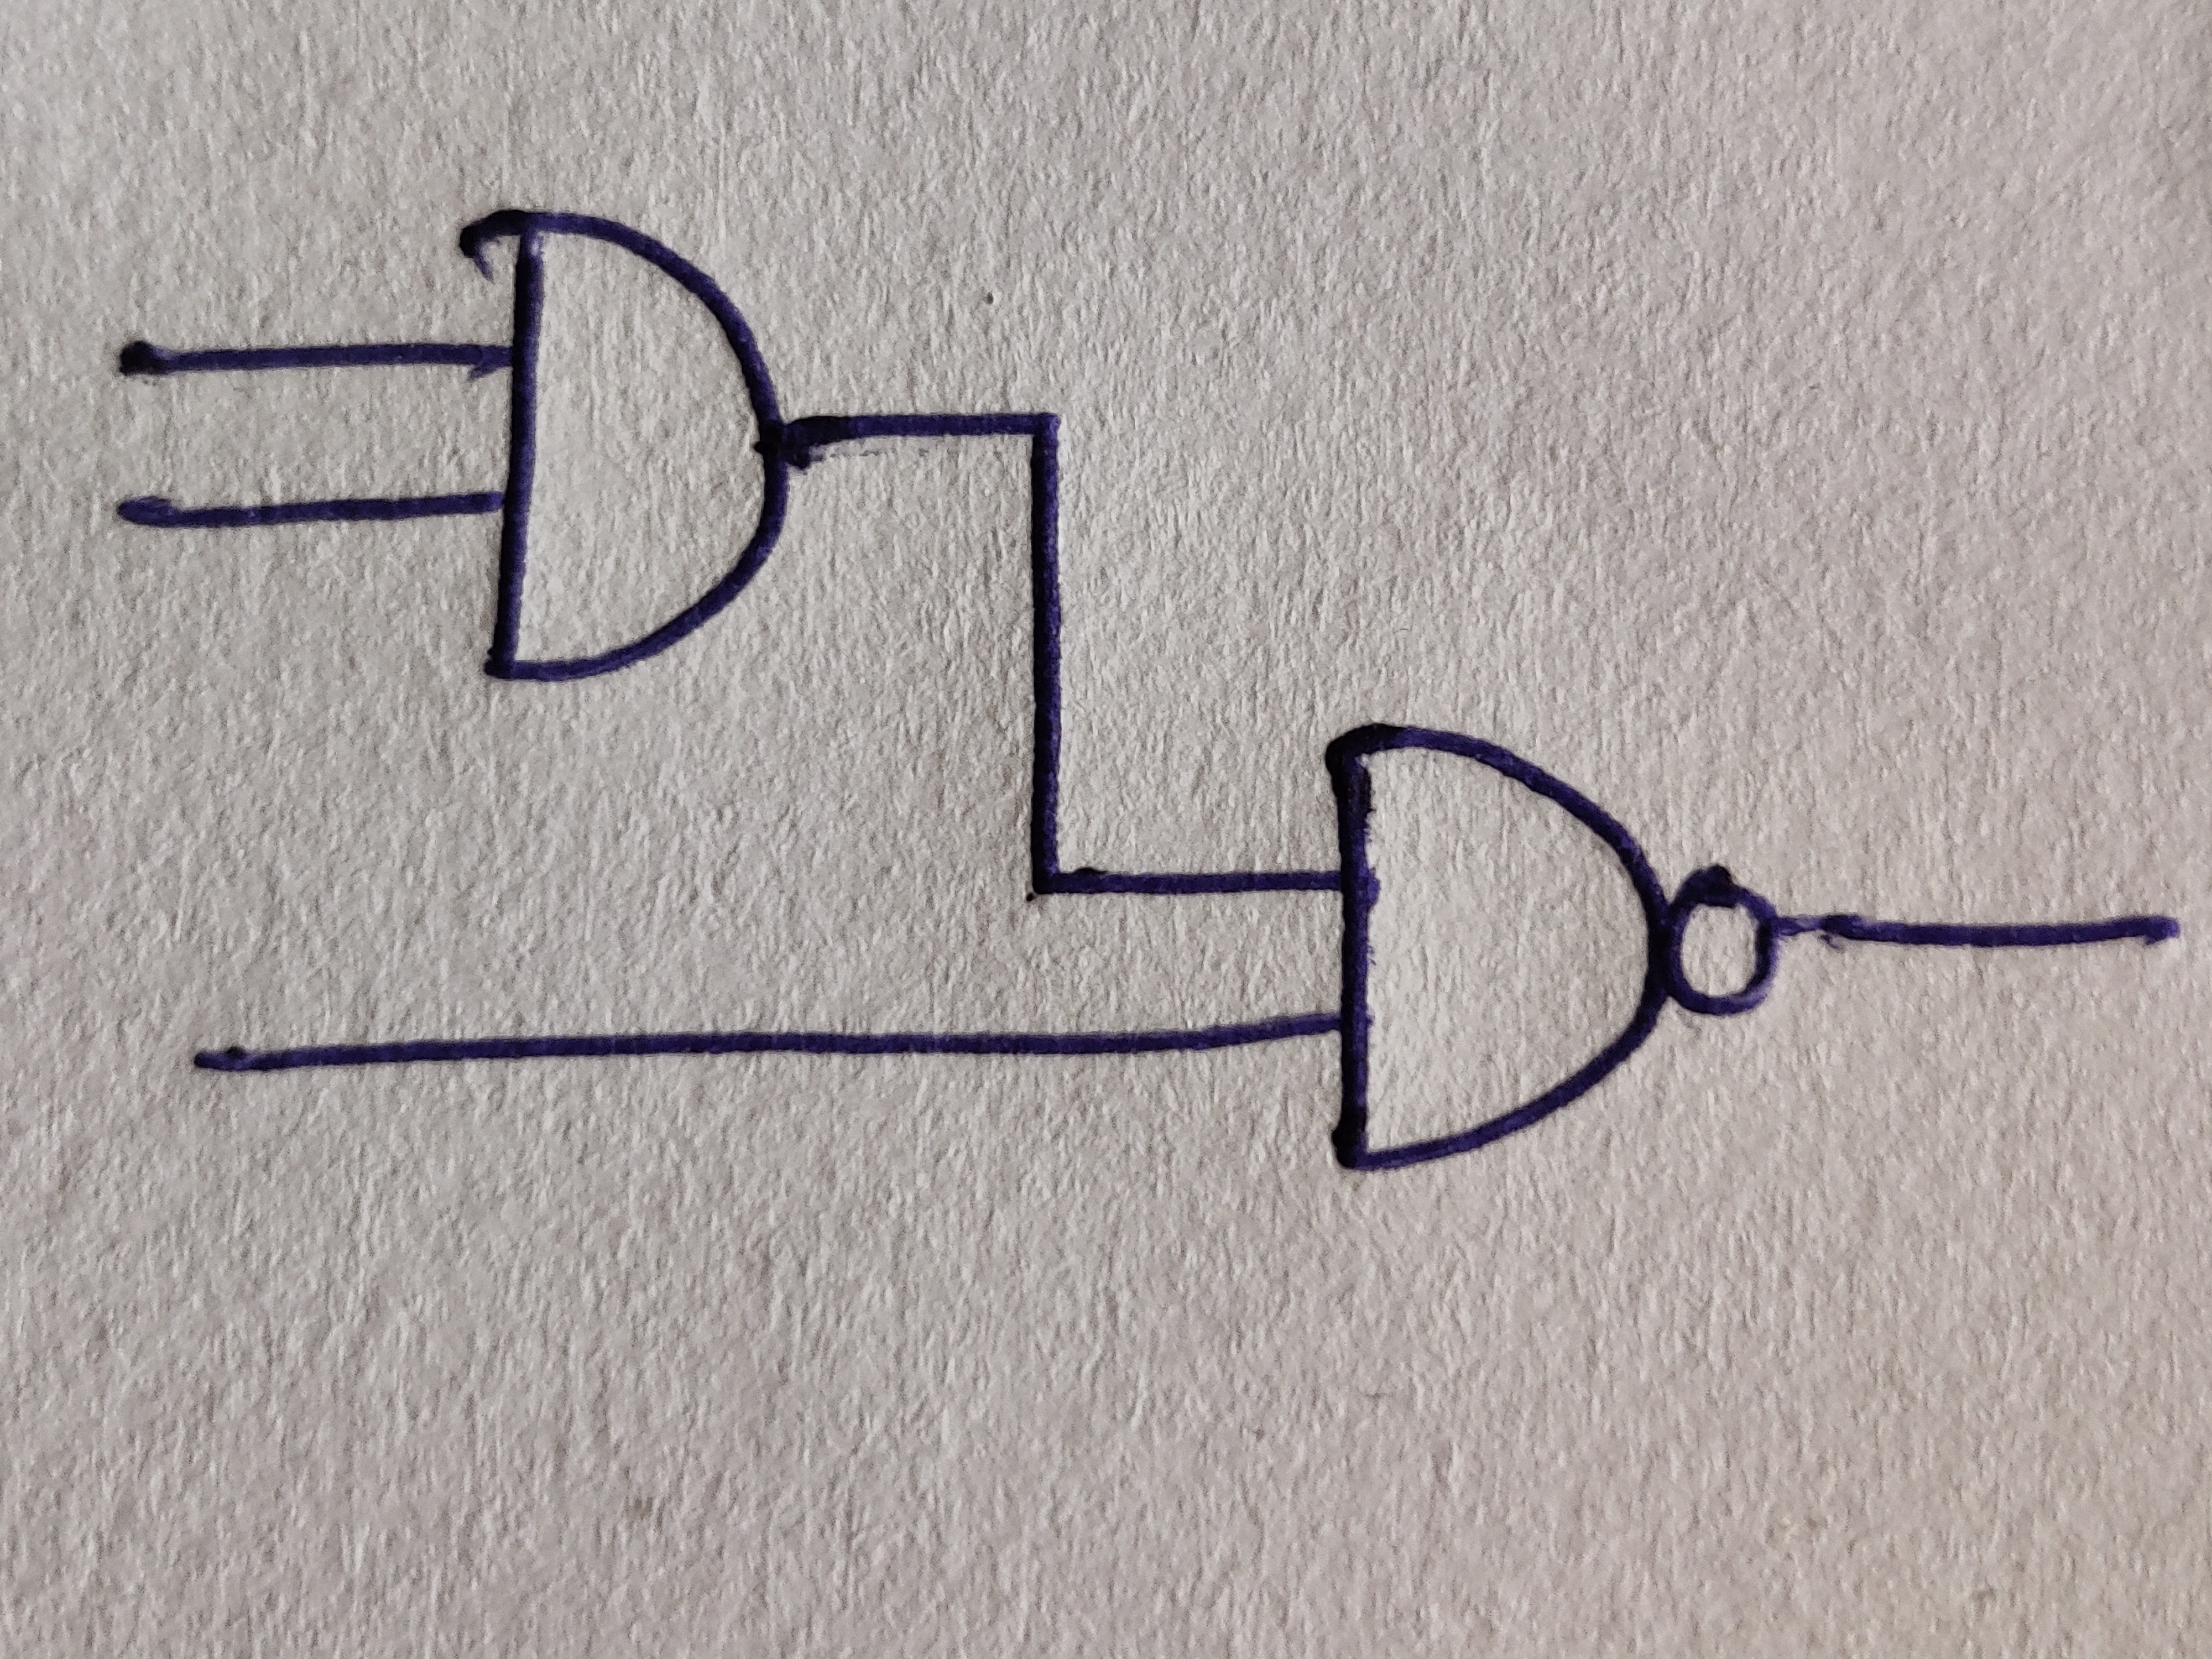and: (456, 211, 789, 683), (1327, 725, 1670, 1169)
not: (1667, 863, 1775, 1018)
